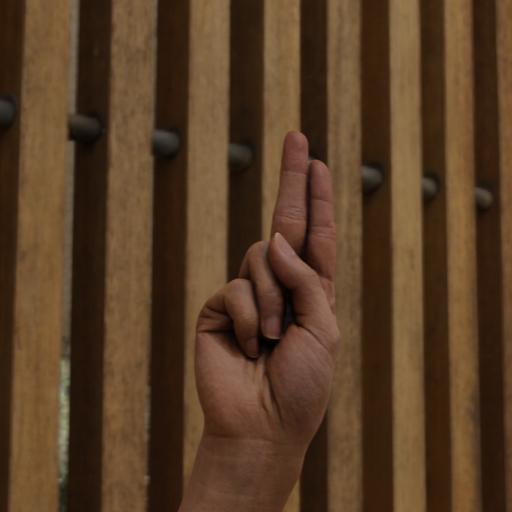U: (172, 117, 370, 465)
